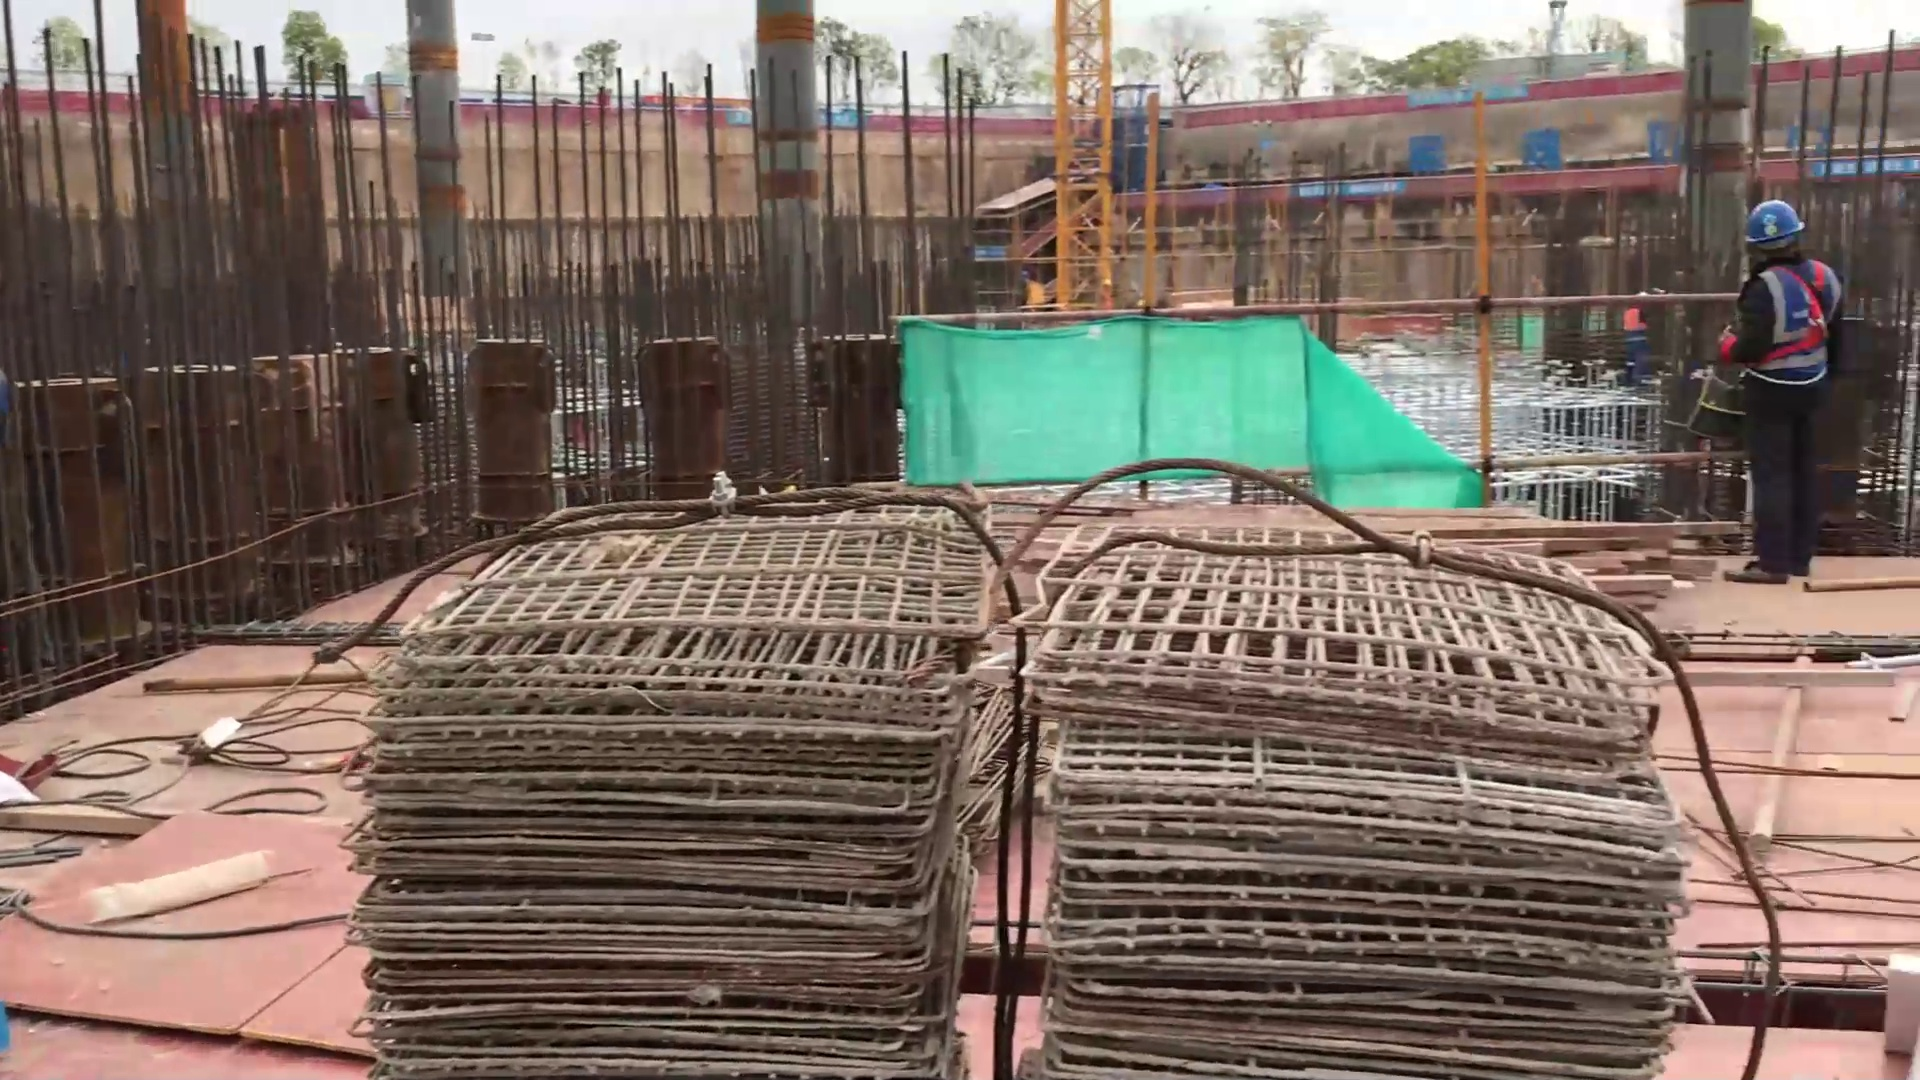helmet: (1736, 200, 1810, 255)
person: (1707, 198, 1855, 588)
vest: (1734, 257, 1841, 396)
